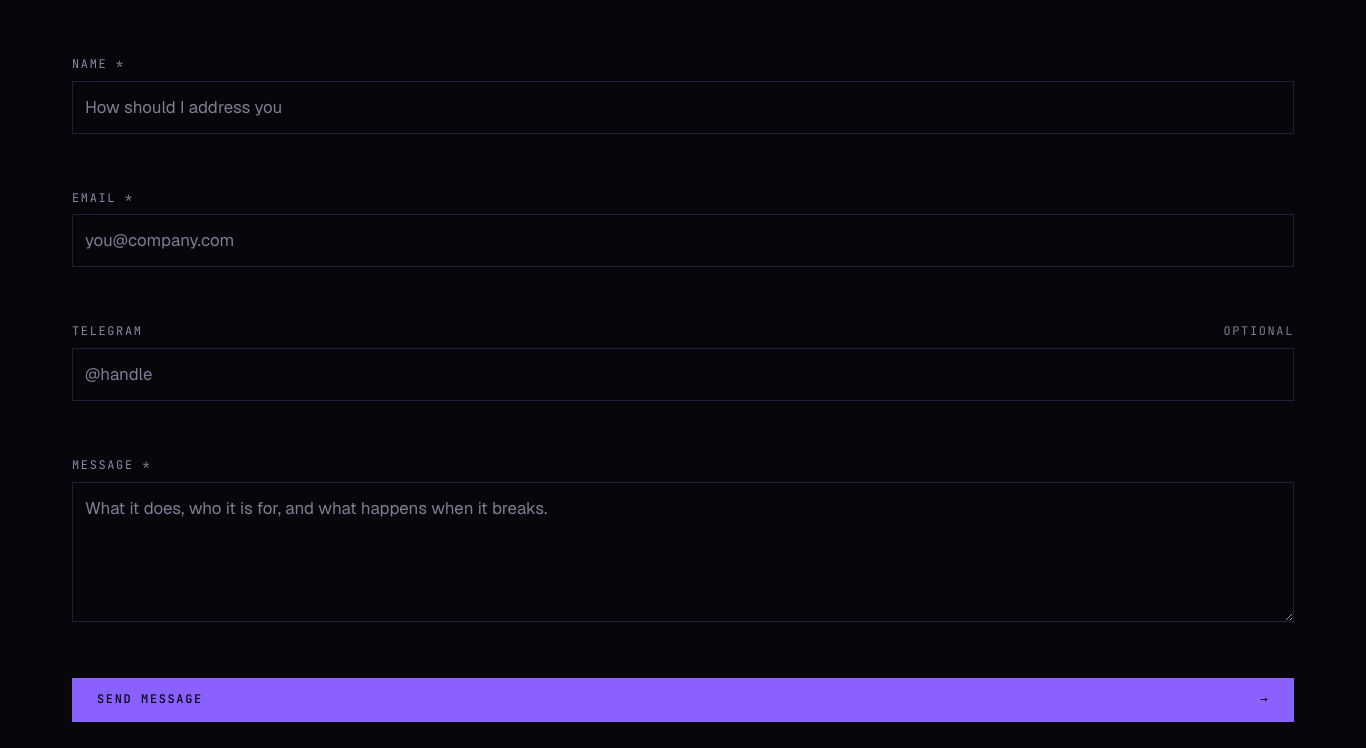
Scenario: ContactForm › shows a network error when the request never reaches the server
Type "Maxim" into the field labelled "Name *" at (683, 107), box [72,81,1294,134]
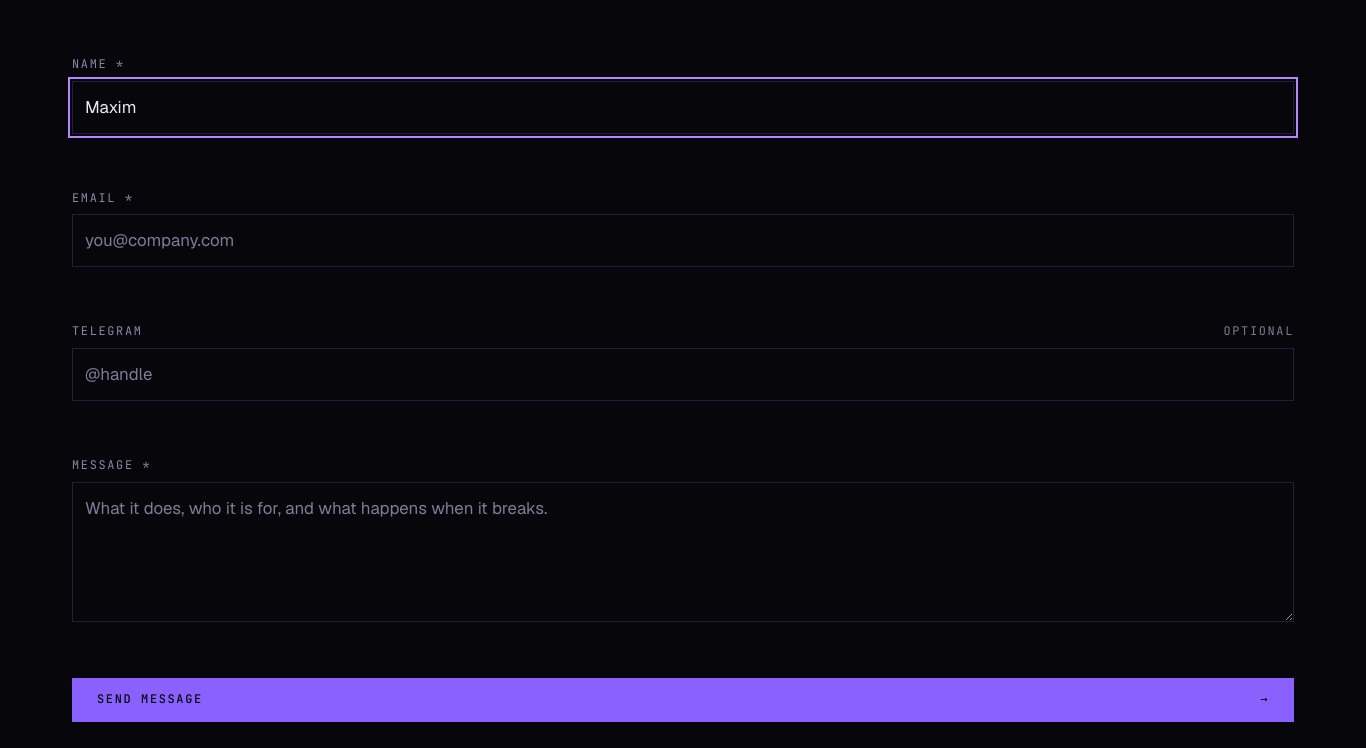
Type "someone@example.com" into the field labelled "Email *" at (683, 241), box [72,214,1294,267]
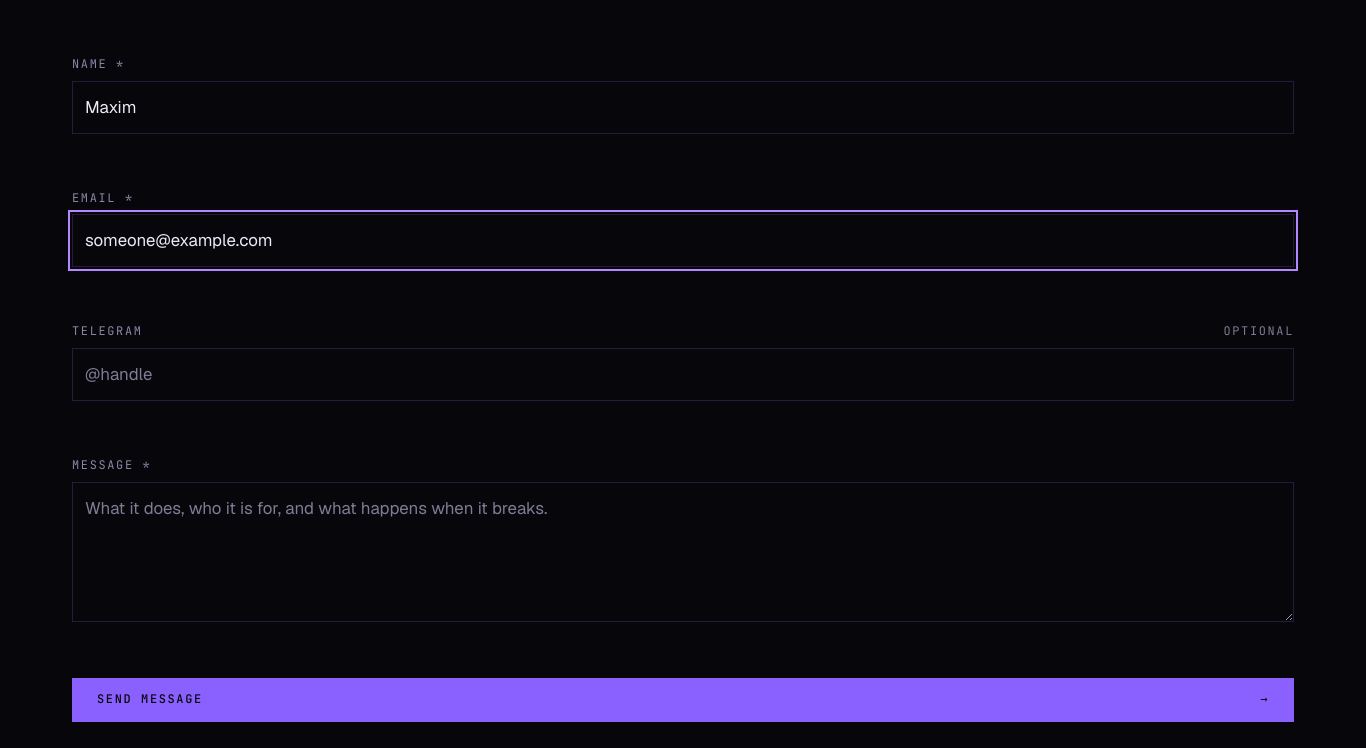
Type "A message that is comfortably past the ten character floor." into the text box labelled "Message *" at (683, 552), box [72,482,1294,622]
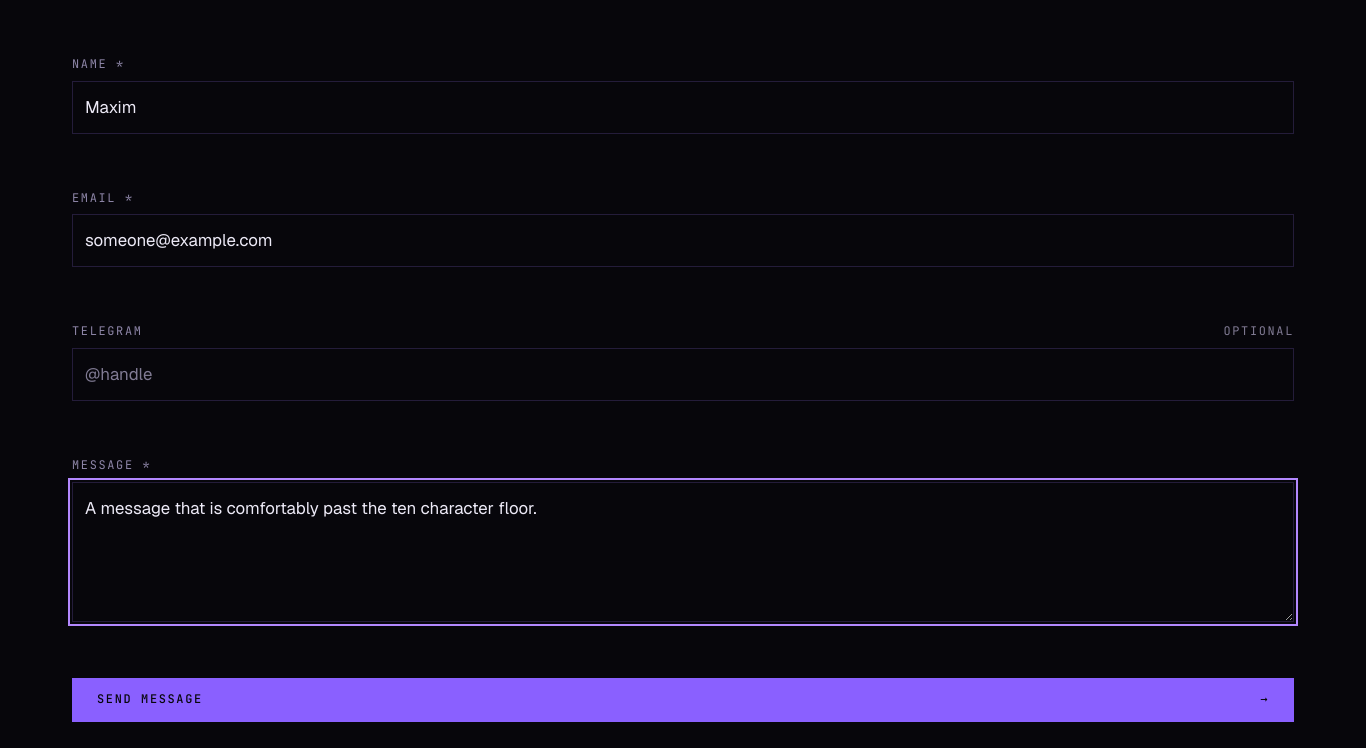
Click the button "Send message →" at (150, 699), box [72,678,1294,722]
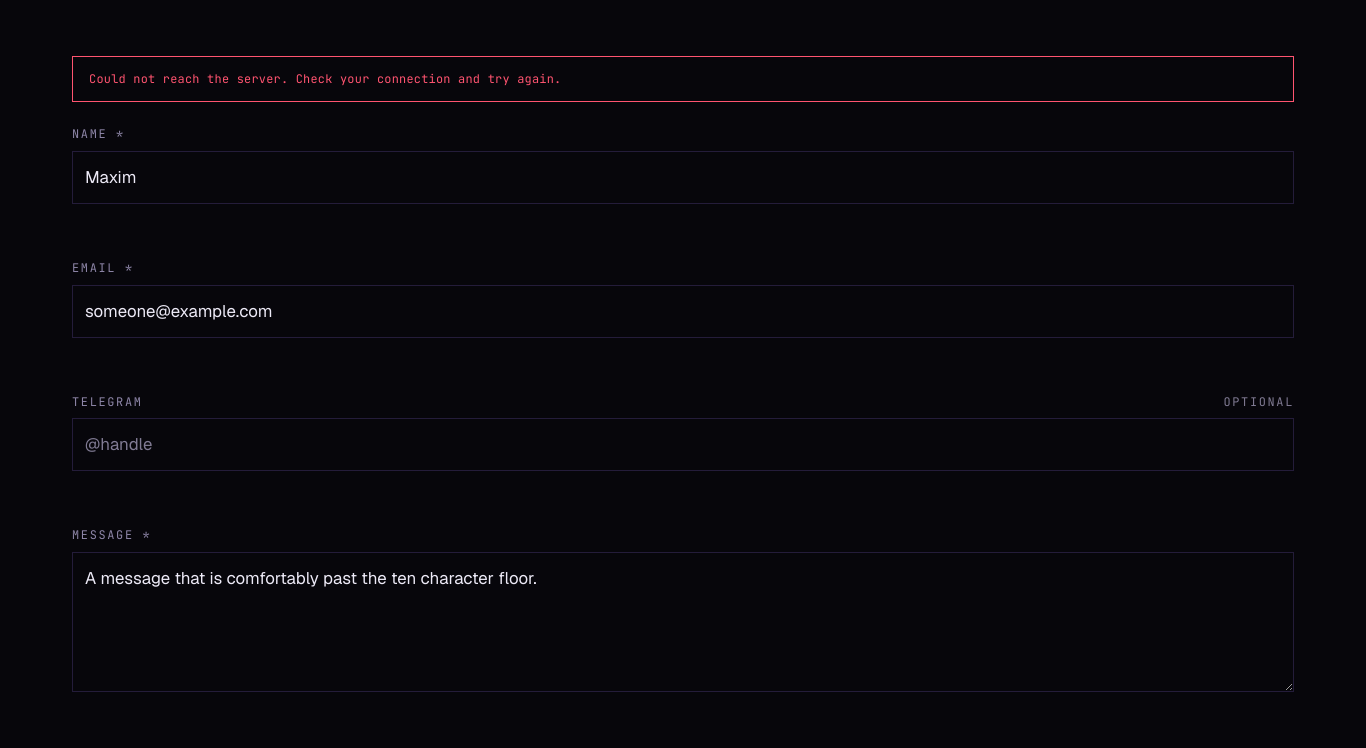
Now the message shows "Could not reach the server", box [89,71,562,87]
